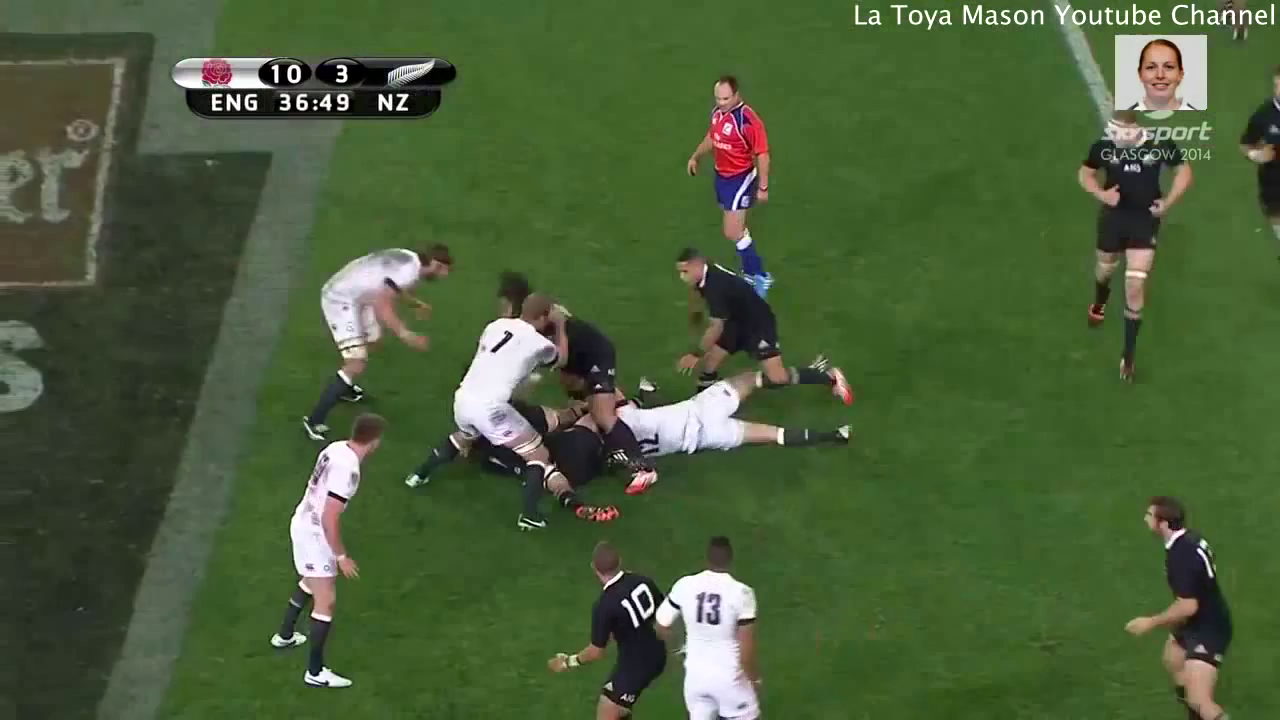player: (397, 293, 570, 532), (260, 405, 399, 695), (293, 237, 461, 443), (1115, 488, 1248, 720), (669, 243, 858, 406), (1077, 158, 1198, 387), (653, 524, 777, 720), (680, 71, 789, 289), (544, 539, 674, 720), (605, 361, 864, 450), (546, 309, 662, 492), (1237, 58, 1280, 287)
ruck: (421, 284, 858, 472)
